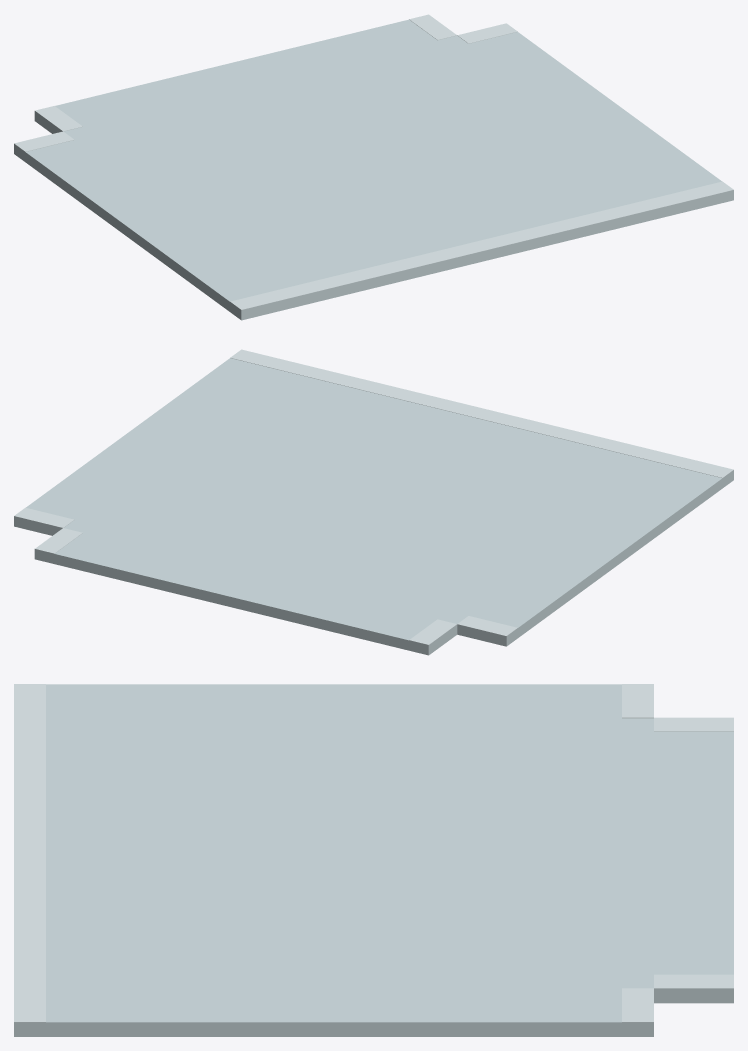
File: campus_walk_junction_v01.glb
3 renders of one model, top to bottom at view 1: azimuth 30°, elevation 25°; view 2: azimuth 150°, elevation 25°; view 3: azimuth 270°, elevation 25°, orthographic. The views are drawn at different scales.
Parts seen in each view (by area): view 1: campus_walk_junction; view 2: campus_walk_junction; view 3: campus_walk_junction.
Part boxes in pixels (x1=…): campus_walk_junction: x1=14, y1=14, x2=733, y2=320; campus_walk_junction: x1=14, y1=349, x2=733, y2=655; campus_walk_junction: x1=14, y1=684, x2=733, y2=1036.
Bounding box in the file's own units: 4 × 0.082 × 3.6.
1 material, 1 textured.
